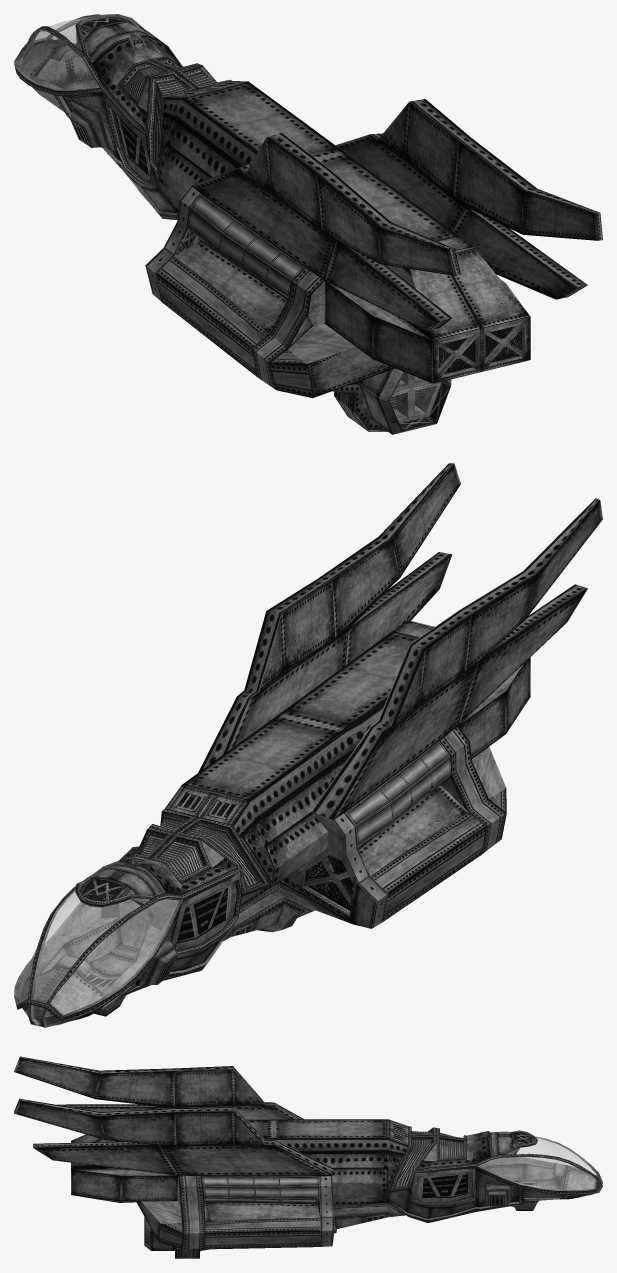
Rendered from XenosLF.obj.
3 views of the same model, one above another, from view 1: azimuth 30°, elevation 25°; view 2: azimuth 150°, elevation 25°; view 3: azimuth 270°, elevation 25° (orthographic). The views are drawn at different scales.
Parts seen in each view (by area): view 1: Defender.001; view 2: Defender.001; view 3: Defender.001.
Boxes of the visible parts, <box> form: Defender.001: <box>14,14,602,434</box>; Defender.001: <box>14,463,602,1027</box>; Defender.001: <box>14,1056,602,1258</box>.
Bounding box in the file's own units: 5 × 5.98 × 18.06.
6 materials, 5 textured.
